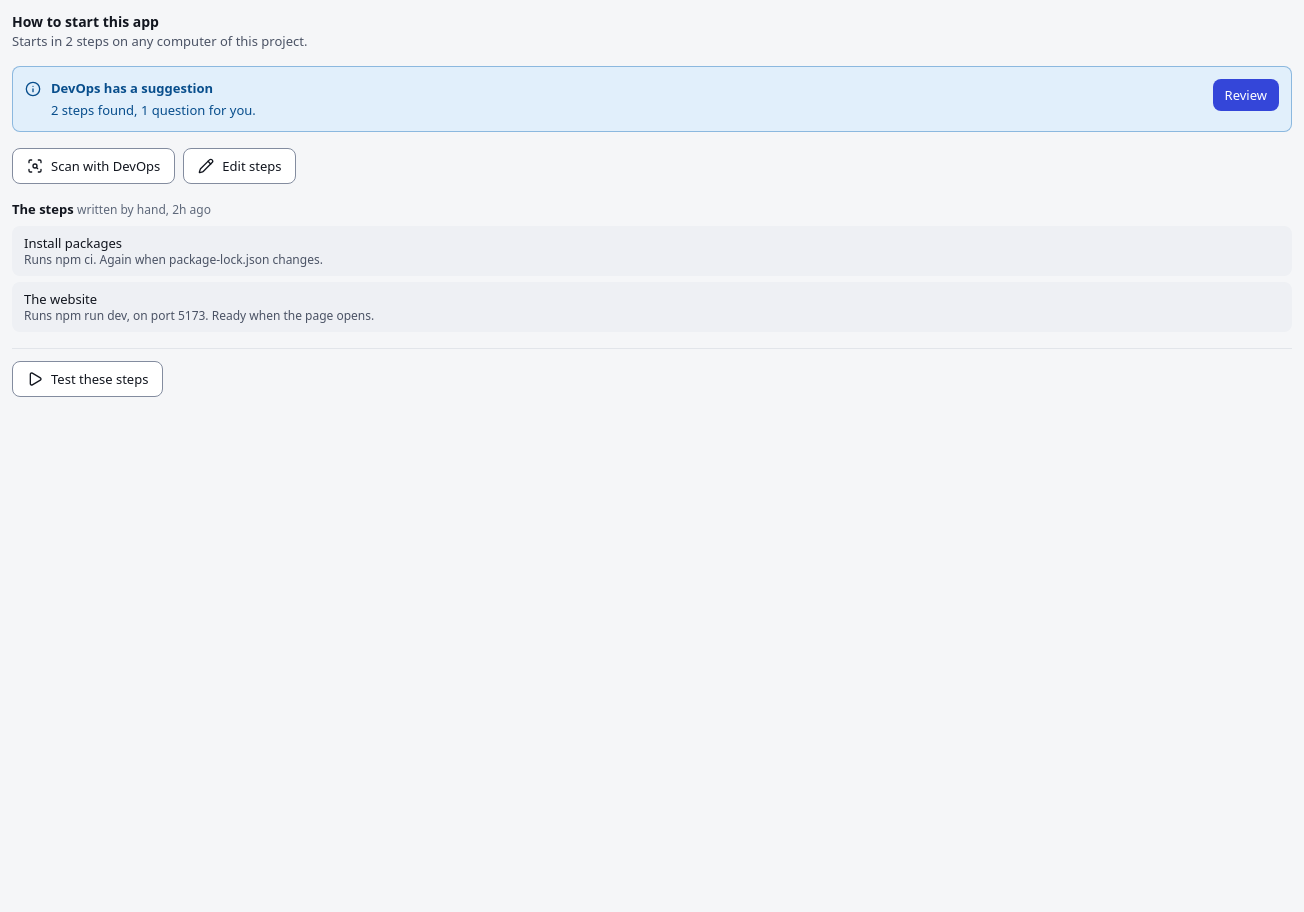
reviewing a scan › warns that using the suggestion replaces the saved steps
Click the button with test id "proposal-review-open".
click(1246, 95)  # box top-left (1213, 79), bottom-right (1279, 111)
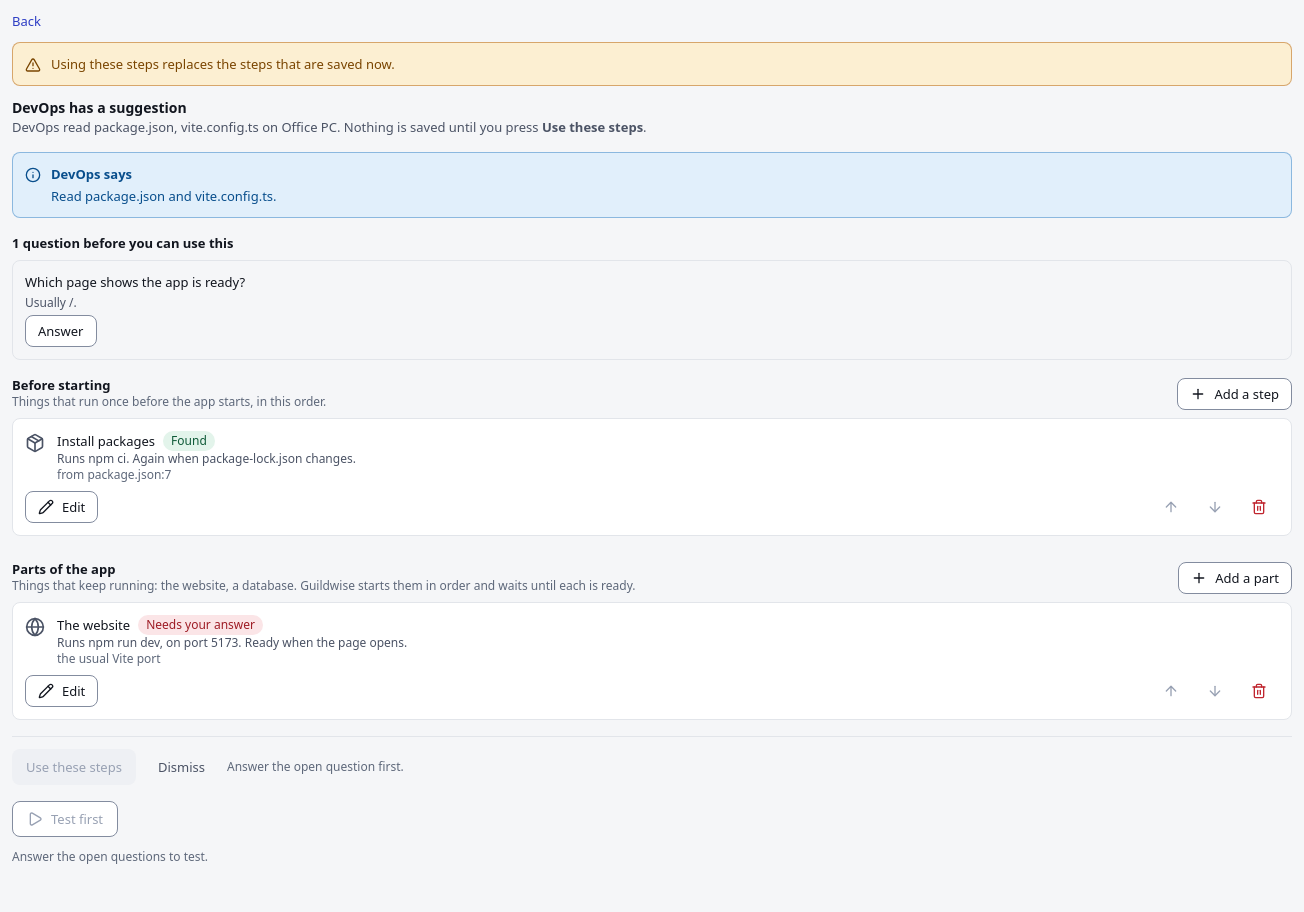
Now the text "Using these steps replaces the steps that are saved now." is shown, box top-left (51, 55), bottom-right (395, 73)
